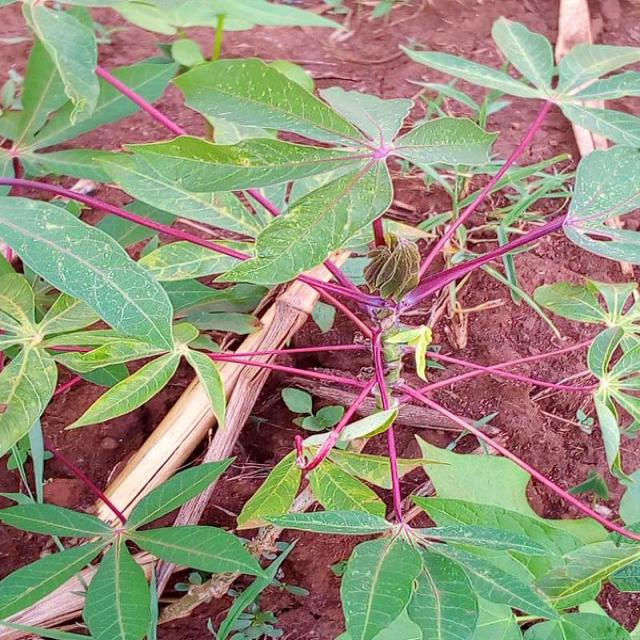cassava leaf: (0, 191, 174, 357)
